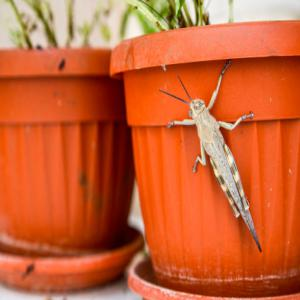locust: (165, 78, 277, 262)
